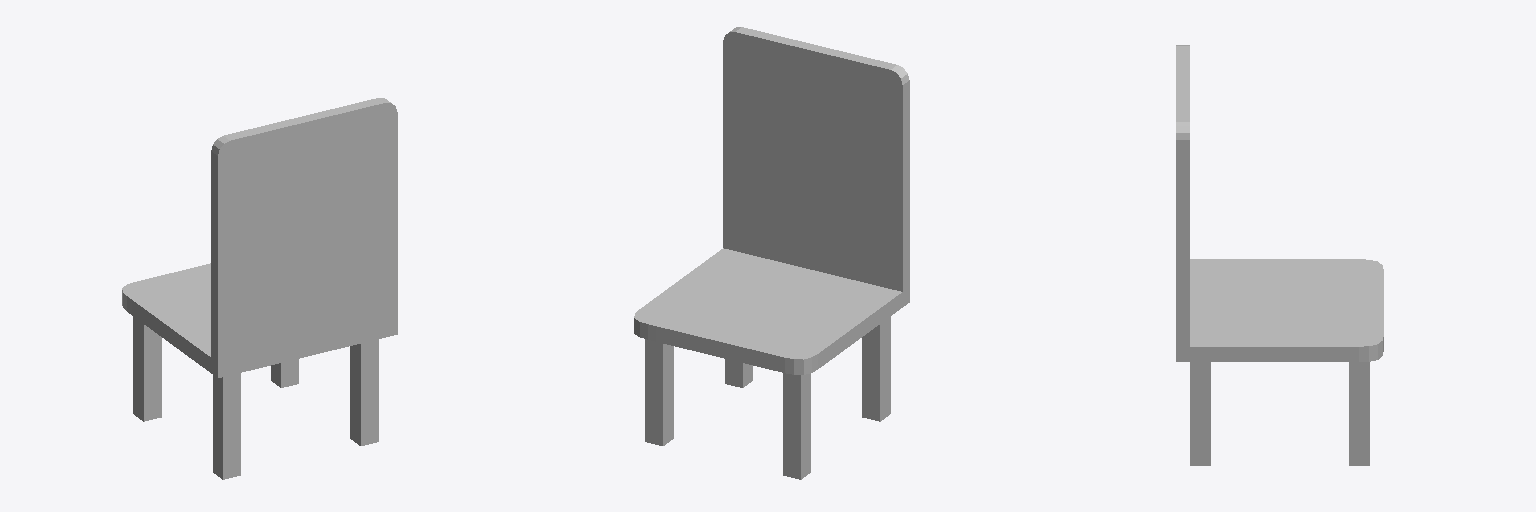
The model's file is chair.obj.
3 renders of one model, left to right at view 1: azimuth 30°, elevation 25°; view 2: azimuth 150°, elevation 25°; view 3: azimuth 270°, elevation 25°, orthographic.
Parts seen in each view (by area): view 1: Cube.001_Cube.002_Cube.001_Cube.003; view 2: Cube.001_Cube.002_Cube.001_Cube.003; view 3: Cube.001_Cube.002_Cube.001_Cube.003.
Part boxes in pixels (left/top/right/bottom): Cube.001_Cube.002_Cube.001_Cube.003: left=122, top=98, right=397, bottom=479; Cube.001_Cube.002_Cube.001_Cube.003: left=634, top=27, right=909, bottom=479; Cube.001_Cube.002_Cube.001_Cube.003: left=1176, top=45, right=1383, bottom=465.
Size of the model in its own units: 0.6 by 1.1 by 0.6.